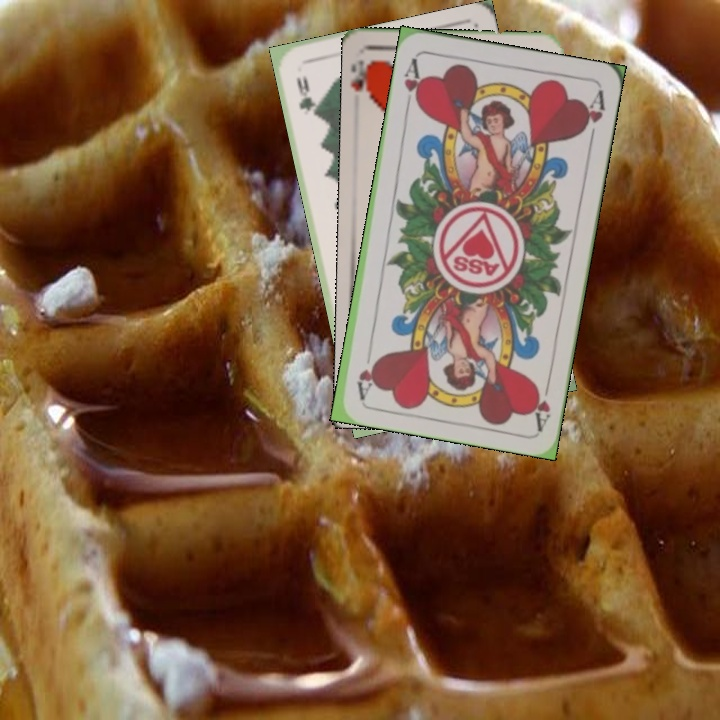G9: (292, 71, 318, 118)
HA: (527, 372, 554, 431), (400, 53, 426, 113)
HO: (348, 56, 376, 107)
